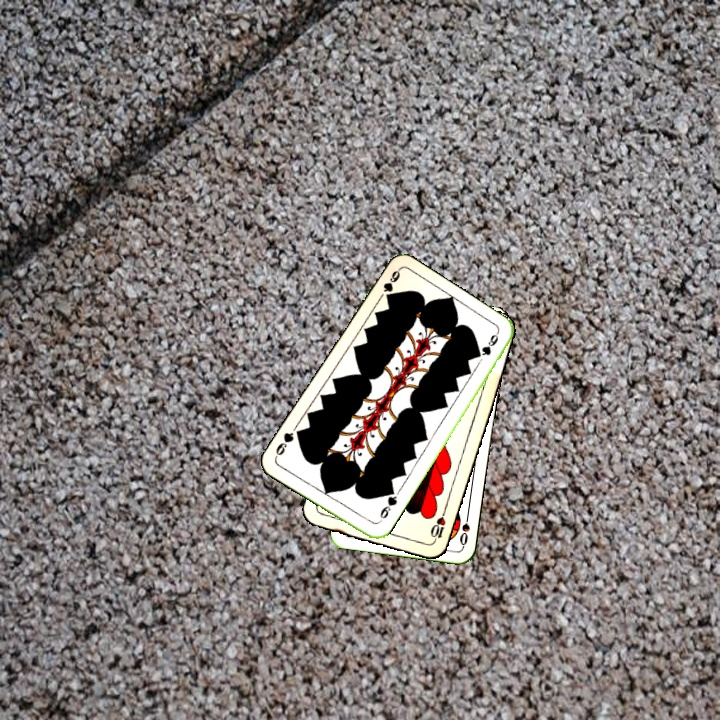G9: (374, 487, 400, 526), (379, 266, 403, 301)
H10: (426, 507, 448, 546)
SO: (455, 508, 472, 549)
